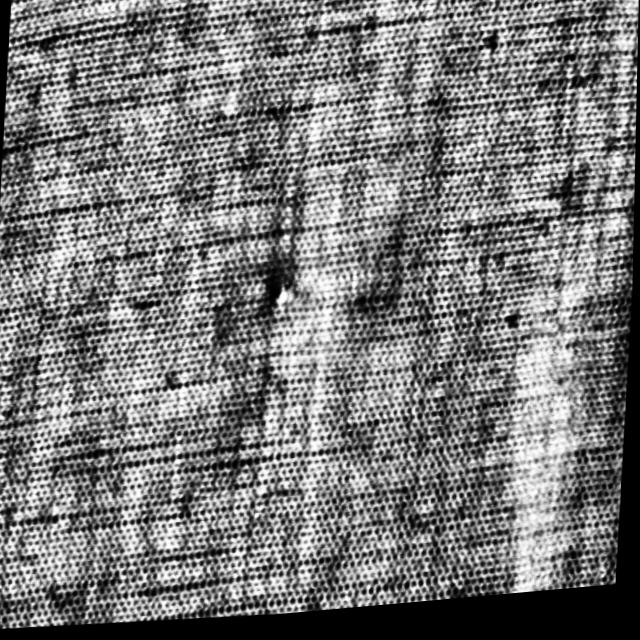Hole: (264, 275, 297, 317)
